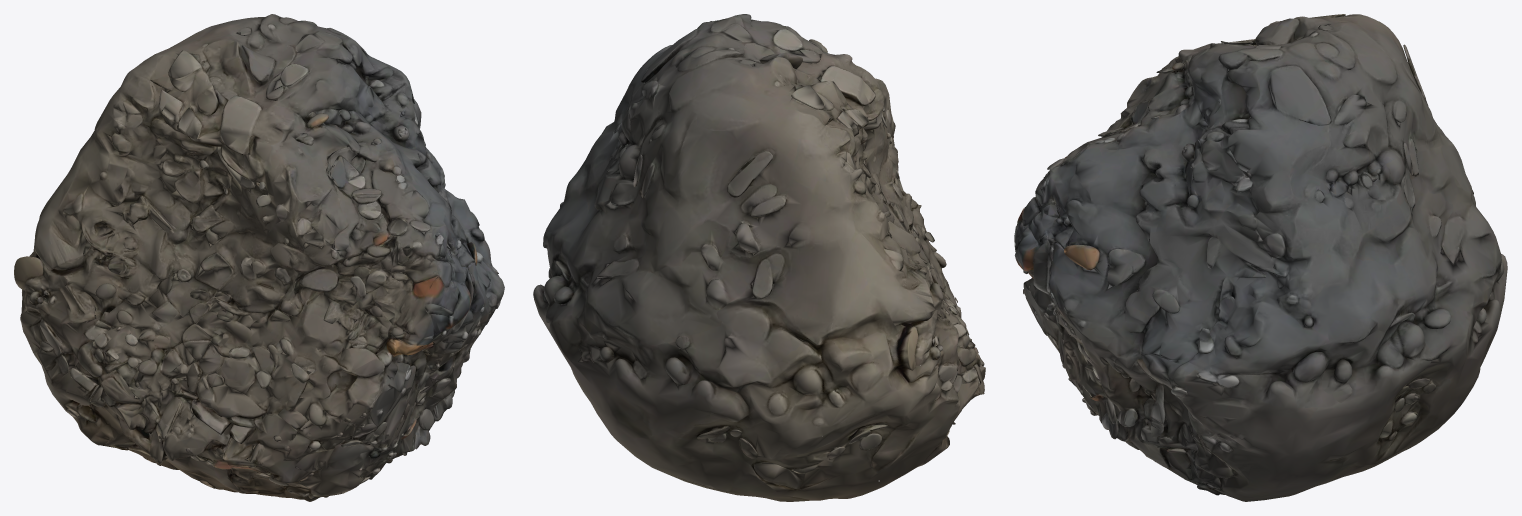
The model's file is gravel_rock.glb.
3 renders of one model, left to right at view 1: azimuth 30°, elevation 25°; view 2: azimuth 150°, elevation 25°; view 3: azimuth 270°, elevation 25°, orthographic. The views are drawn at different scales.
Visible parts, largest first — view 1: tripo_node_dc69b4c0-fd92-4efa-b184-85b1ec0a4f42; view 2: tripo_node_dc69b4c0-fd92-4efa-b184-85b1ec0a4f42; view 3: tripo_node_dc69b4c0-fd92-4efa-b184-85b1ec0a4f42.
Part boxes in pixels (box(x1,y1,x2,y2)): tripo_node_dc69b4c0-fd92-4efa-b184-85b1ec0a4f42: box(14, 14, 504, 501); tripo_node_dc69b4c0-fd92-4efa-b184-85b1ec0a4f42: box(533, 14, 985, 501); tripo_node_dc69b4c0-fd92-4efa-b184-85b1ec0a4f42: box(1014, 14, 1507, 501).
Bounding box in the file's own units: 0.9779 × 0.9521 × 0.9788.
1 material, 1 textured.
